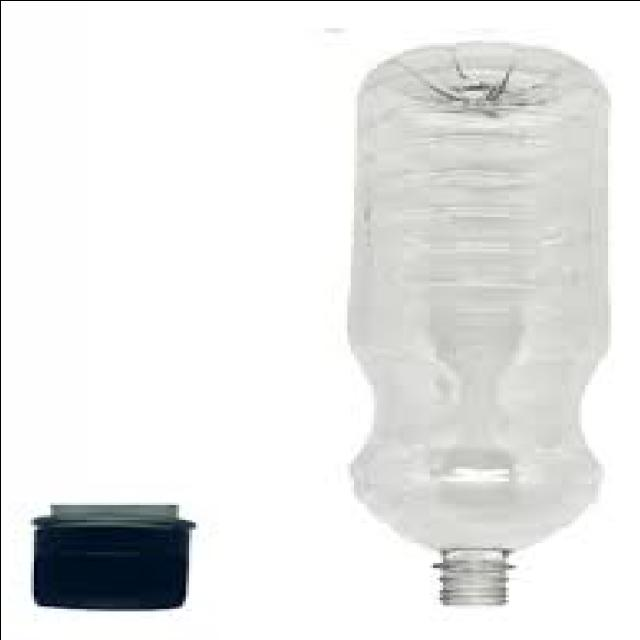bottle: (348, 45, 606, 604)
